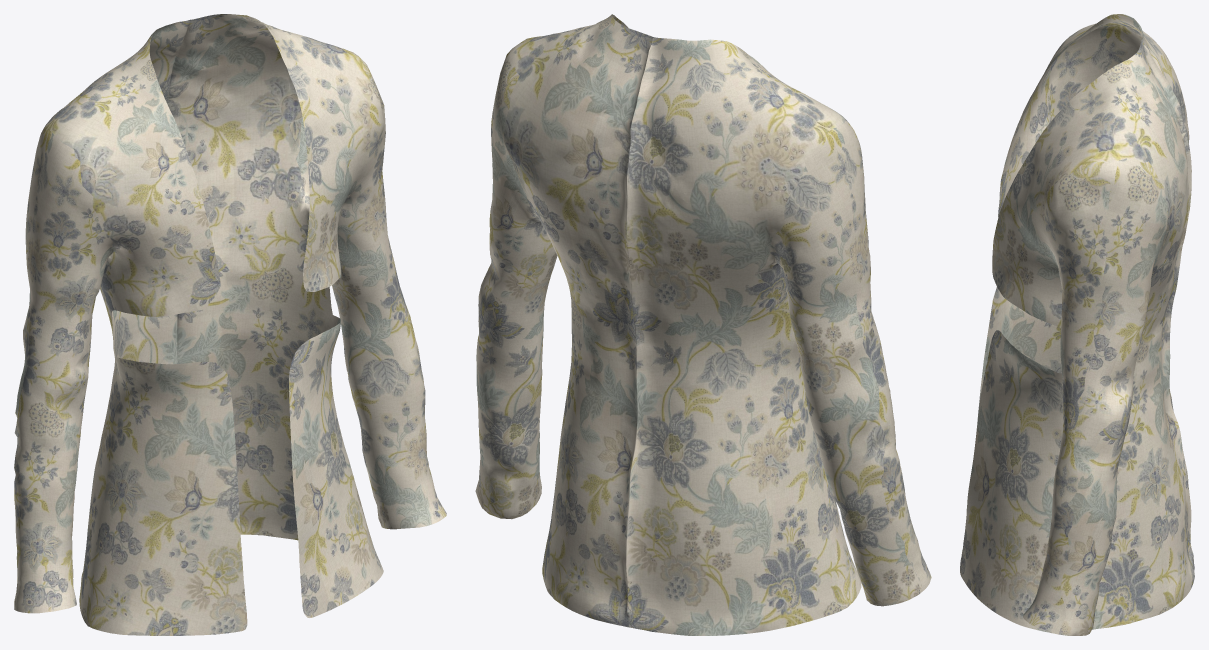
Rendered from full_lining_no_vent.glb.
3 renders of one model, left to right at view 1: azimuth 30°, elevation 25°; view 2: azimuth 150°, elevation 25°; view 3: azimuth 270°, elevation 25°, orthographic. The views are drawn at different scales.
Parts seen in each view (by area): view 1: lining_no_vent.002; view 2: lining_no_vent.002; view 3: lining_no_vent.002.
Boxes of the visible parts, <box> form: lining_no_vent.002: <box>14,14,446,635</box>; lining_no_vent.002: <box>475,14,931,635</box>; lining_no_vent.002: <box>960,14,1194,635</box>.
Size of the model in its own units: 60.22 by 74.38 by 29.62.
1 material, 1 textured.
